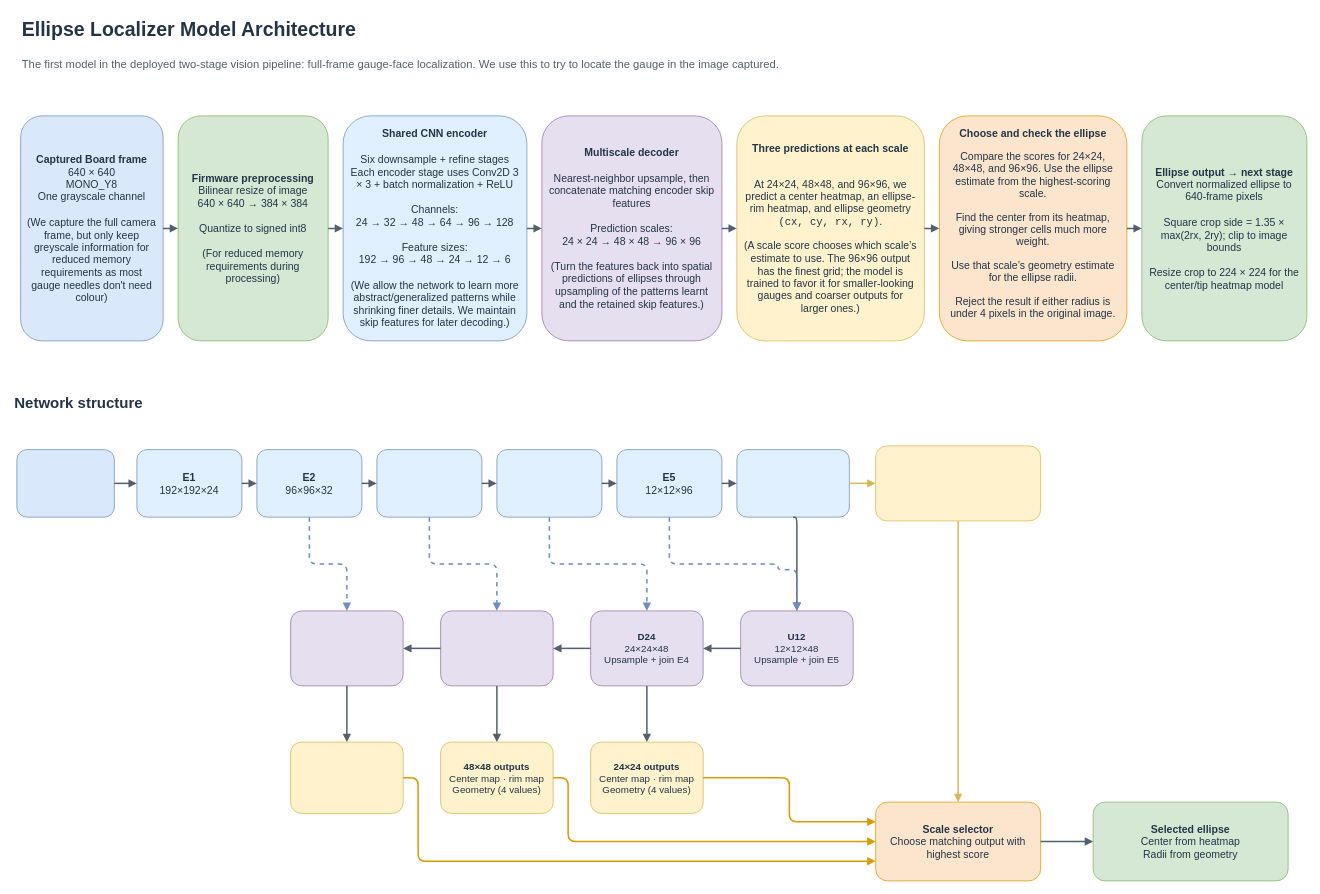
Some shapes in this 1320 by 894 pixel diagram are drawn without their labels. Each missing label, with the centre of its shape:
96×96 outputs Center map · rim map Geometry (4 values): pixel 346 777
D48 48×48×32 Upsample + join E3: pixel 496 648
D96 96×96×24 Upsample + join E2: pixel 346 648
E3 48×48×48: pixel 429 483
E4 24×24×64: pixel 549 483
E6 bottleneck 6×6×128: pixel 792 483
Ellipse input 384×384×1: pixel 65 483
Scale-score branch Global average pool Dense(3) → softmax: pixel 958 483
